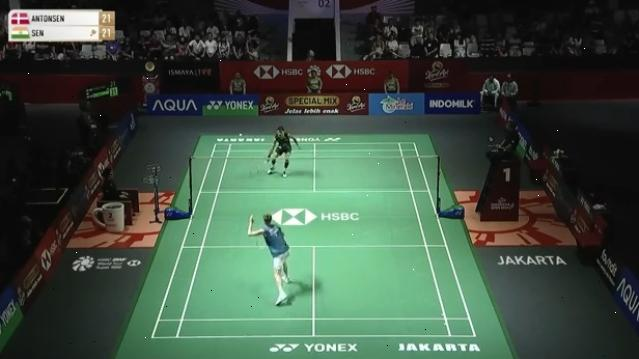Shuttlecock: (235, 130, 245, 138)
